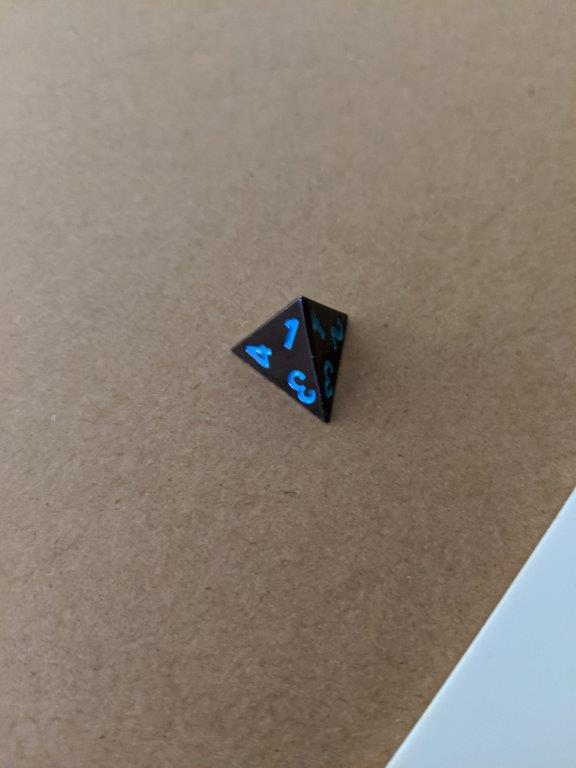d4-1: (228, 292, 353, 429)
